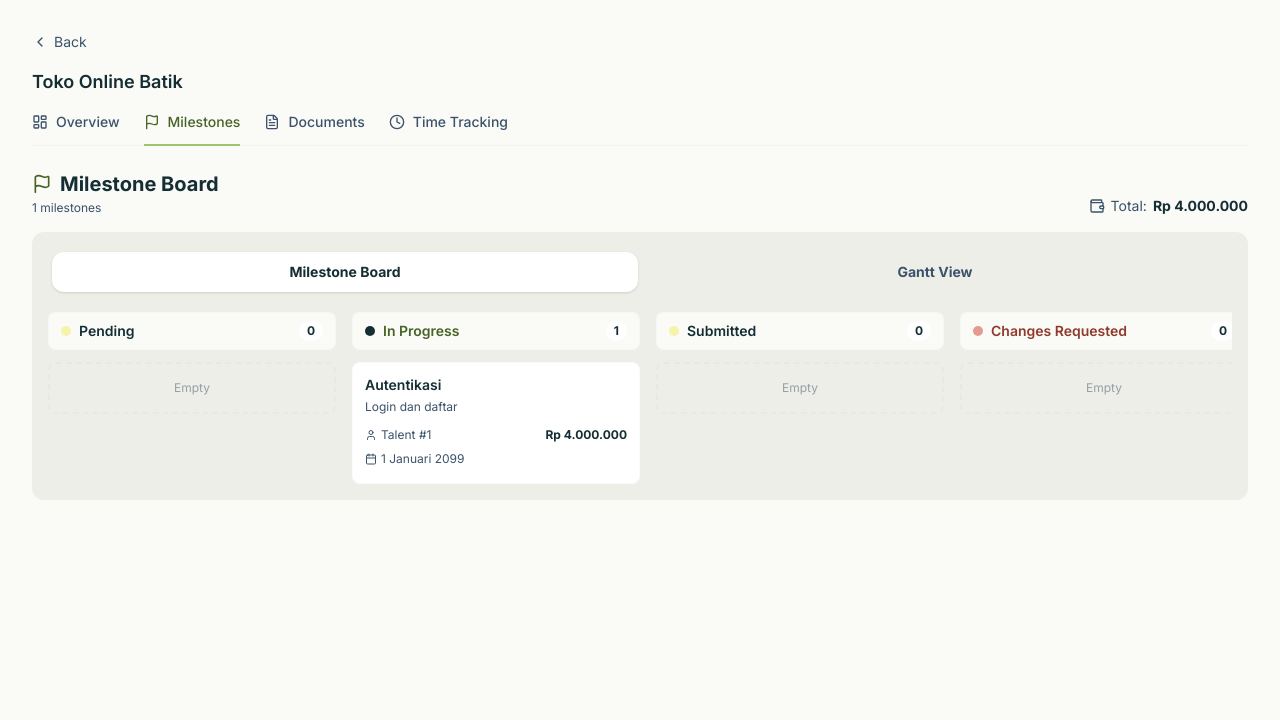
Test: the controls each role is offered on a submitted milestone › offers a talent the submit control once work is in progress
Click the button "Autentikasi".
click(403, 384)  # box [365,375,627,467]
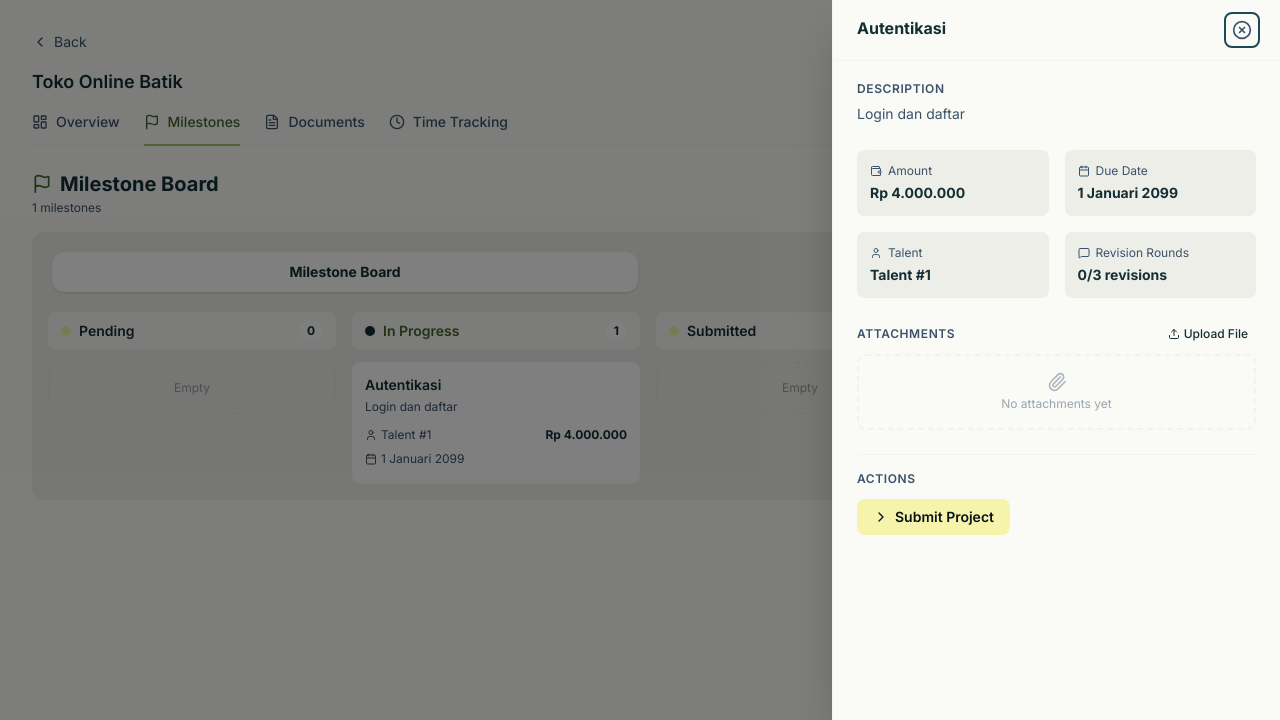
expect the button "Submit Project" is shown: met, box [857,499,1010,535]
